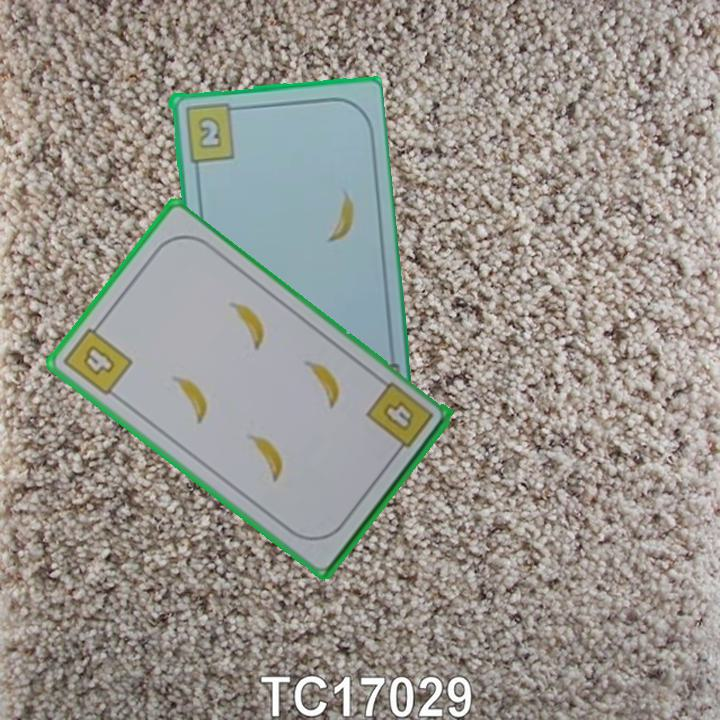2b: (181, 99, 243, 164)
4b: (59, 317, 136, 399), (362, 378, 437, 459)
